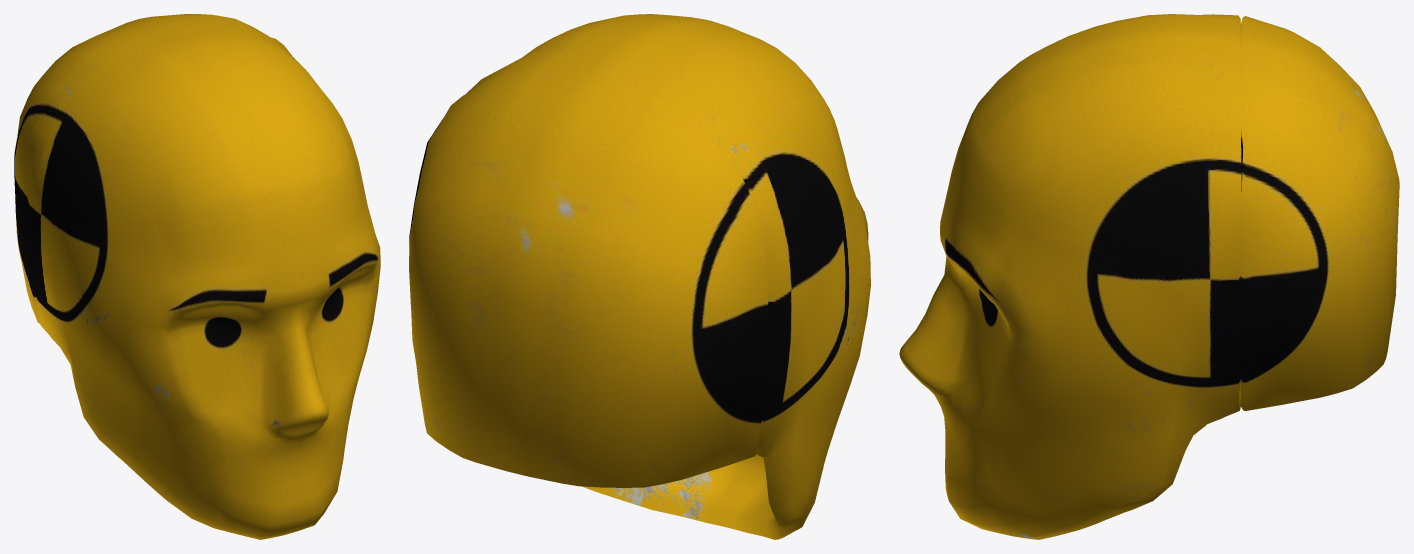
The model's file is head-compressed.gltf.
The picture shows the model from 3 angles, left to right: view 1: azimuth 30°, elevation 25°; view 2: azimuth 150°, elevation 25°; view 3: azimuth 270°, elevation 25°; orthographic projection. The views are drawn at different scales.
Parts seen in each view (by area): view 1: Head, Back; view 2: Back, Head; view 3: Head, Back.
Boxes of the visible parts, bbox=[...] form: Head: bbox=[29, 17, 380, 539]; Back: bbox=[14, 14, 267, 323]; Back: bbox=[409, 68, 768, 487]; Head: bbox=[466, 14, 870, 539]; Head: bbox=[899, 14, 1241, 539]; Back: bbox=[1240, 16, 1399, 410].
Bounding box in the file's own units: 0.1518 × 0.2265 × 0.2087.
1 material, 1 textured.
